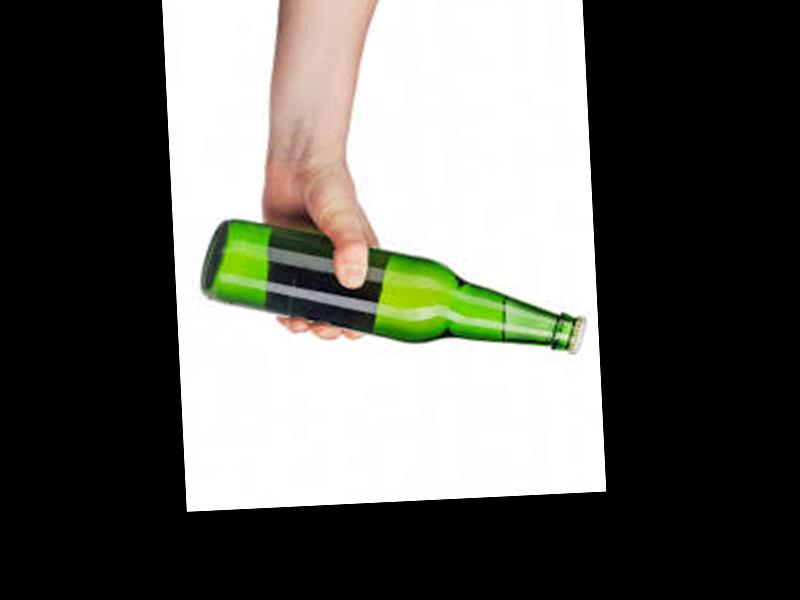Beer: (197, 202, 587, 371)
